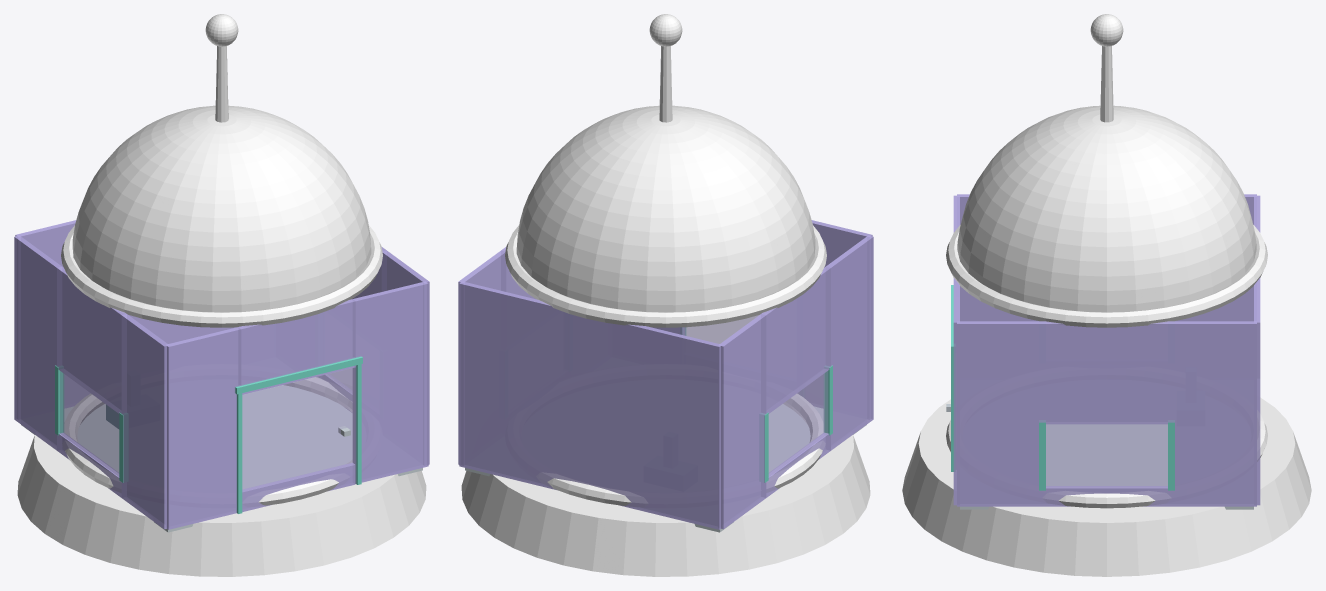
Rendered from aurora_observatory.glb.
3 renders of one model, left to right at view 1: azimuth 30°, elevation 25°; view 2: azimuth 150°, elevation 25°; view 3: azimuth 270°, elevation 25°, orthographic.
Visible parts, largest first — view 1: Original_glass_1, Original_metal, Shell_Front_Side_-1, Shell_Front_Side_1, Door_Main_Glass, Walkable_Interior_Floor, Shell_Side_-1_End_1, Shell_Side_-1_End_-1, Shell_Front_Header, Shell_Side_-1_Header, Original_metal_2, Window_Right_Glass (+12 smaller); view 2: Original_glass_1, Shell_Back, Original_metal, Shell_Side_-1_End_-1, Shell_Side_-1_End_1, Shell_Side_-1_Header, Original_metal_2, Window_Right_Glass, Original_metal_1, Walkable_Interior_Floor, Shell_Front_Side_-1, Shell_Side_1_End_-1 (+6 smaller); view 3: Original_glass_1, Original_metal, Shell_Side_1_End_-1, Shell_Side_1_End_1, Shell_Side_1_Header, Window_Left_Glass, Walkable_Interior_Floor, Original_metal_2, Original_metal_1, Shell_Side_1_Sill, Shell_Side_-1_End_-1, Shell_Side_-1_End_1 (+4 smaller).
Part boxes in pixels (box(x1,y1,x2,y2)): Original_glass_1: box(72, 105, 371, 312); Original_metal: box(17, 383, 426, 576); Shell_Front_Side_-1: box(166, 327, 241, 529); Shell_Front_Side_1: box(353, 282, 428, 483); Door_Main_Glass: box(242, 367, 355, 491); Walkable_Interior_Floor: box(21, 385, 422, 532); Shell_Side_-1_End_1: box(121, 314, 169, 529); Shell_Side_-1_End_-1: box(14, 235, 61, 450); Shell_Front_Header: box(238, 299, 355, 394); Shell_Side_-1_Header: box(57, 266, 126, 413); Original_metal_2: box(61, 225, 382, 327); Window_Right_Glass: box(60, 371, 119, 476); Original_glass_1: box(516, 105, 815, 312); Shell_Back: box(459, 282, 721, 529); Original_metal: box(461, 435, 870, 576); Shell_Side_-1_End_-1: box(718, 314, 766, 529); Shell_Side_-1_End_1: box(826, 235, 873, 450); Shell_Side_-1_Header: box(761, 266, 830, 413); Original_metal_2: box(505, 225, 826, 327); Window_Right_Glass: box(768, 371, 827, 476); Original_metal_1: box(537, 394, 825, 506); Walkable_Interior_Floor: box(465, 404, 866, 532); Shell_Front_Side_-1: box(797, 220, 872, 418); Shell_Side_1_End_-1: box(458, 250, 506, 465); Original_glass_1: box(957, 105, 1256, 312); Original_metal: box(902, 397, 1311, 576); Shell_Side_1_End_-1: box(1171, 321, 1256, 506); Shell_Side_1_End_1: box(957, 321, 1042, 506); Shell_Side_1_Header: box(1042, 321, 1171, 424); Window_Left_Glass: box(1046, 424, 1167, 487); Walkable_Interior_Floor: box(960, 424, 1253, 509); Original_metal_2: box(946, 225, 1267, 327); Original_metal_1: box(946, 410, 1267, 508); Shell_Side_1_Sill: box(1042, 486, 1171, 506); Shell_Side_-1_End_-1: box(1175, 194, 1256, 321); Shell_Side_-1_End_1: box(957, 194, 1038, 321).
Bounding box in the file's own units: 3 × 3.84 × 3.
